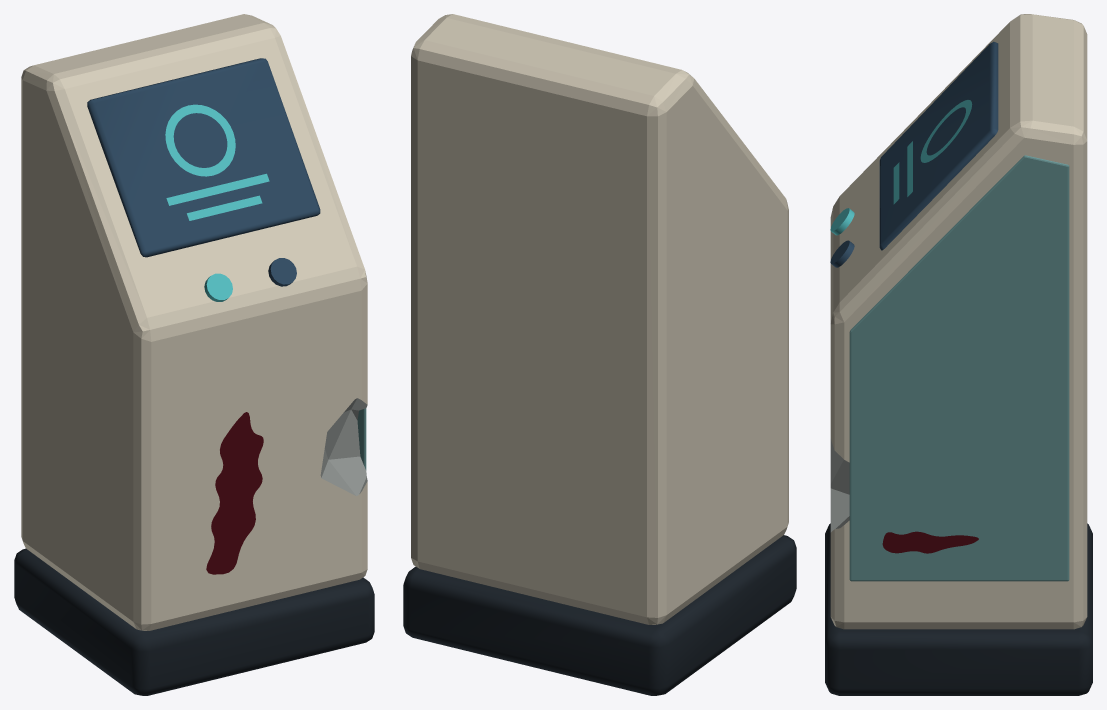
Rendered from ct_control_pedestal.glb.
3 views of the same model, side by side, from view 1: azimuth 30°, elevation 25°; view 2: azimuth 150°, elevation 25°; view 3: azimuth 270°, elevation 25° (orthographic). The views are drawn at different scales.
Visible parts, largest first — view 1: Static_Shell_Mesh; view 2: Static_Shell_Mesh; view 3: Static_Shell_Mesh.
Part boxes in pixels (bbox=[...]): Static_Shell_Mesh: bbox=[14, 14, 374, 695]; Static_Shell_Mesh: bbox=[403, 14, 796, 695]; Static_Shell_Mesh: bbox=[825, 14, 1092, 695].
Bounding box in the file's own units: 0.53 × 1.16 × 0.49.
